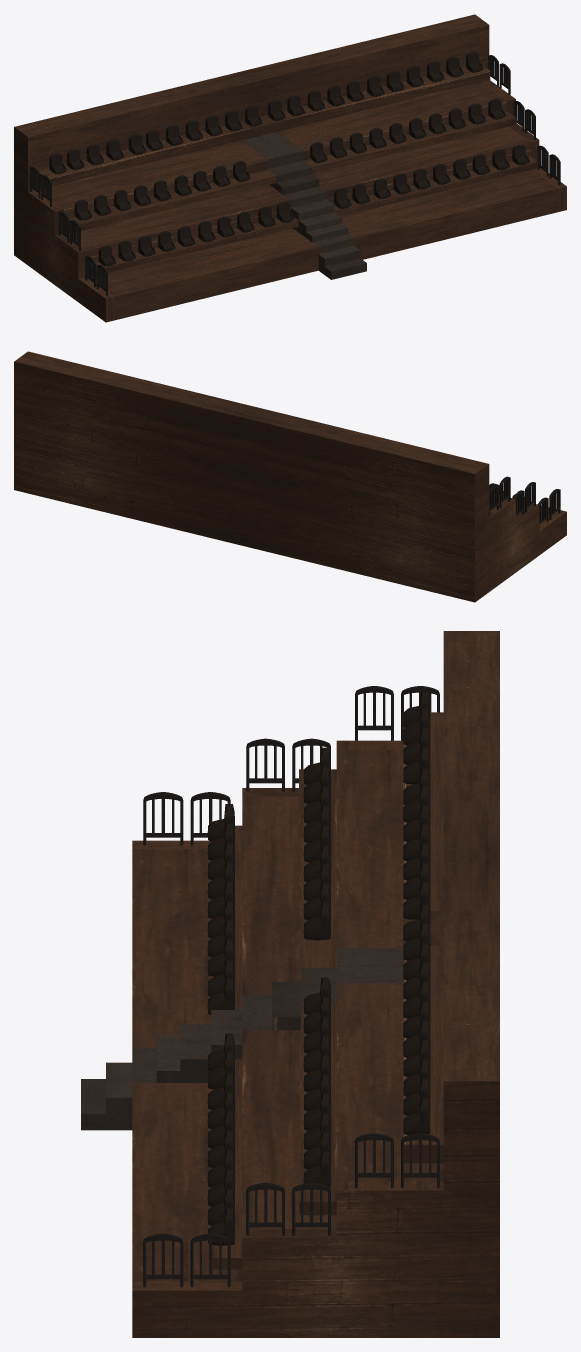
File: GradasGimnasioSalva2.fbx
3 views of the same model, one above another, from view 1: azimuth 30°, elevation 25°; view 2: azimuth 150°, elevation 25°; view 3: azimuth 270°, elevation 25° (orthographic). The views are drawn at different scales.
Visible parts, largest first — view 1: gradasGimnasiov2; view 2: gradasGimnasiov2; view 3: gradasGimnasiov2.
Boxes of the visible parts, left/top/right/bottom form: gradasGimnasiov2: left=14, top=14, right=566, bottom=322; gradasGimnasiov2: left=14, top=351, right=566, bottom=602; gradasGimnasiov2: left=81, top=631, right=499, bottom=1337.
Size of the model in its own units: 4083 by 1086 by 1606.
2 materials, 2 textured.
